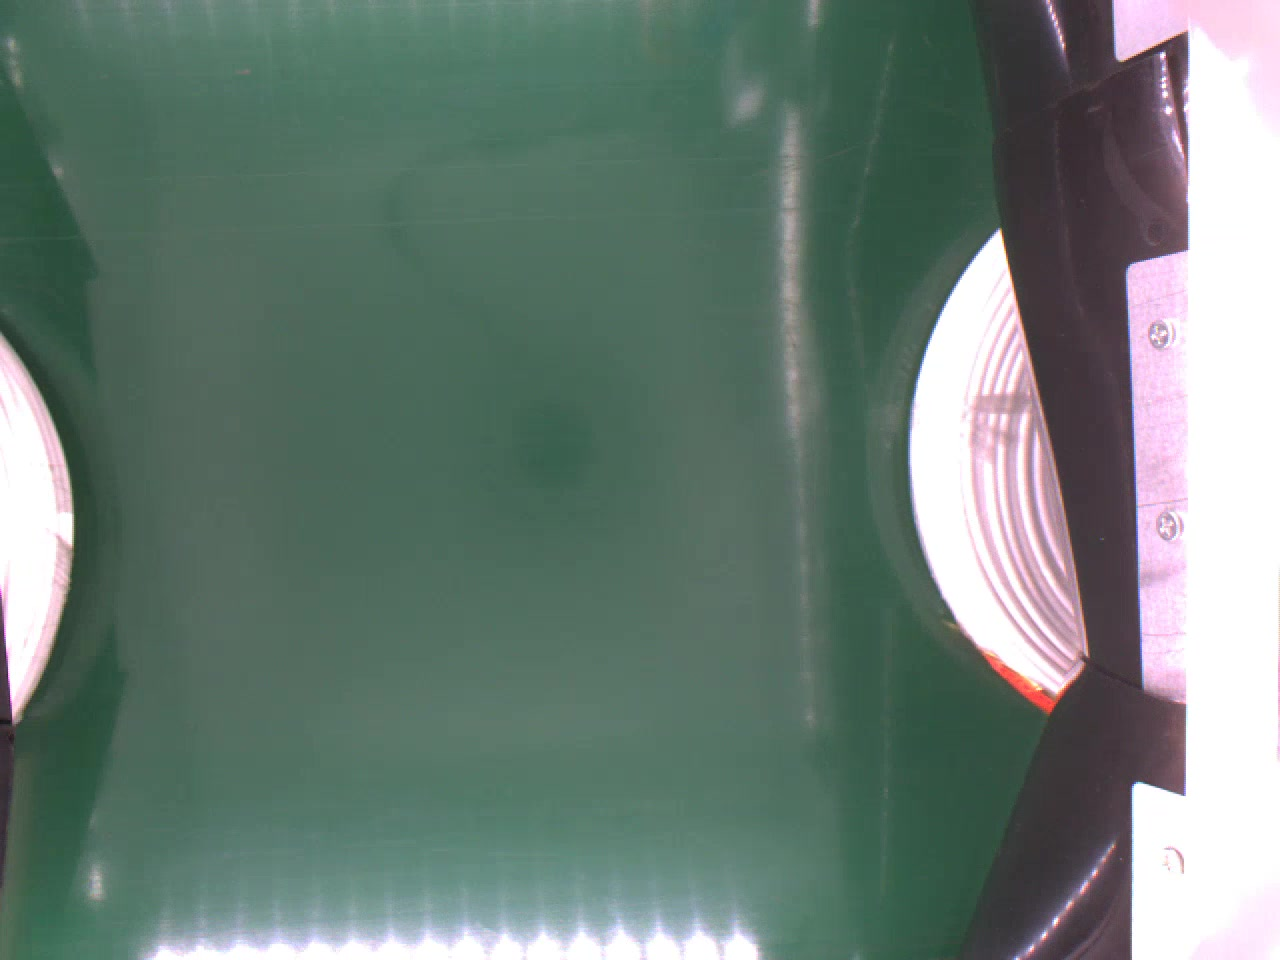white: (902, 219, 1084, 710)
